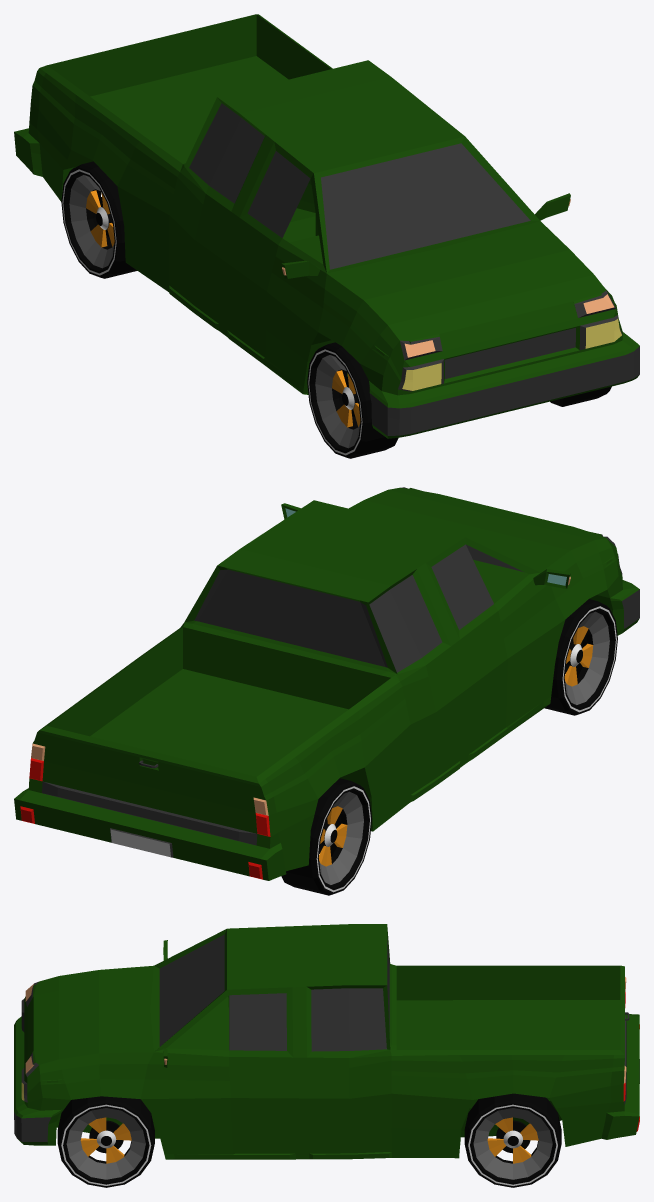
The model's file is вариант 1.fbx.
3 views of the same model, one above another, from view 1: azimuth 30°, elevation 25°; view 2: azimuth 150°, elevation 25°; view 3: azimuth 270°, elevation 25° (orthographic). The views are drawn at different scales.
Parts seen in each view (by area): view 1: Cube, FR, RR; view 2: Cube, RR, FR; view 3: Cube, RL, FL.
Part boxes in pixels (box(x1,y1,x2,y2)): Cube: box(14, 14, 639, 438); FR: box(307, 342, 398, 458); RR: box(61, 161, 137, 278); Cube: box(14, 487, 639, 880); RR: box(281, 778, 371, 895); FR: box(544, 599, 617, 715); Cube: box(14, 924, 639, 1159); RL: box(464, 1093, 561, 1187); FL: box(57, 1096, 154, 1187).
Size of the model in its own units: 501 by 368 by 1138.
